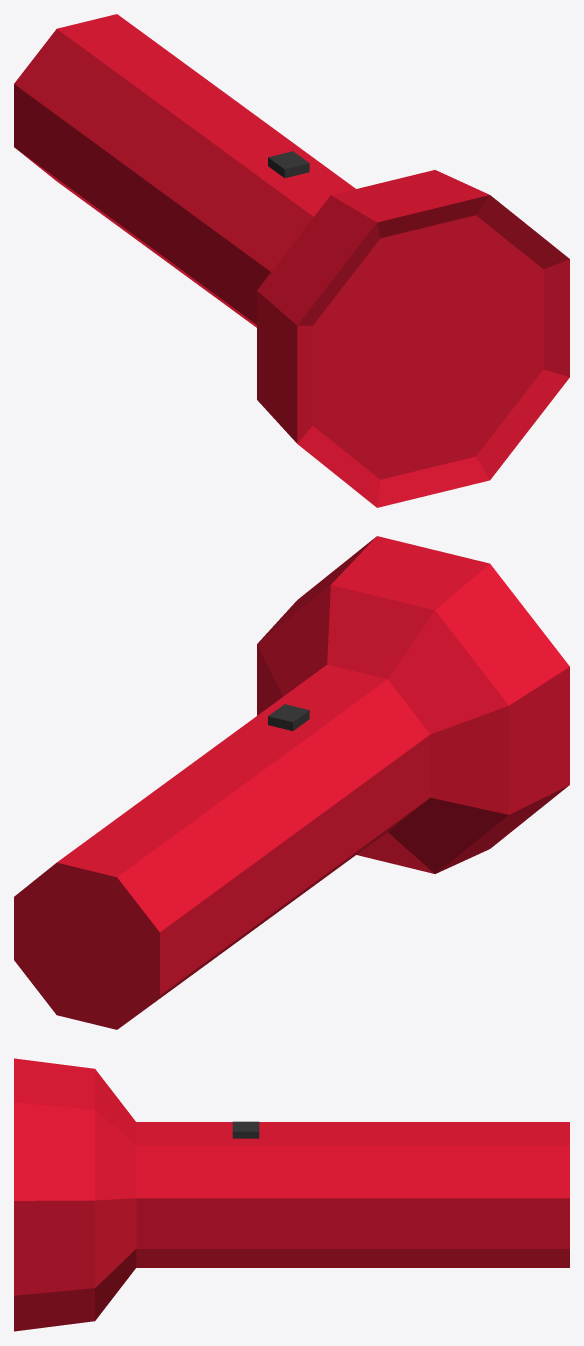
File: FlashLight.fbx
3 views of the same model, one above another, from view 1: azimuth 30°, elevation 25°; view 2: azimuth 150°, elevation 25°; view 3: azimuth 270°, elevation 25° (orthographic). The views are drawn at different scales.
Parts seen in each view (by area): view 1: Cylinder; view 2: Cylinder; view 3: Cylinder.
Boxes of the visible parts, <box> form: Cylinder: <box>14,14,569,507</box>; Cylinder: <box>14,536,569,1029</box>; Cylinder: <box>14,1058,569,1331</box>.
Bounding box in the file's own units: 320 × 320 × 705.
